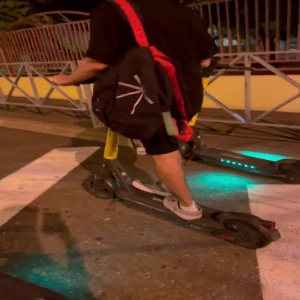human on a scooter: (38, 1, 283, 252)
